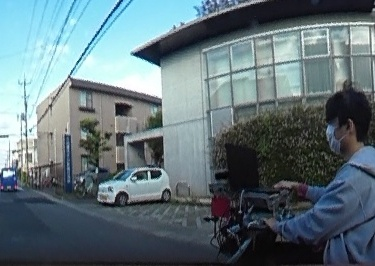person: (290, 89, 375, 266)
